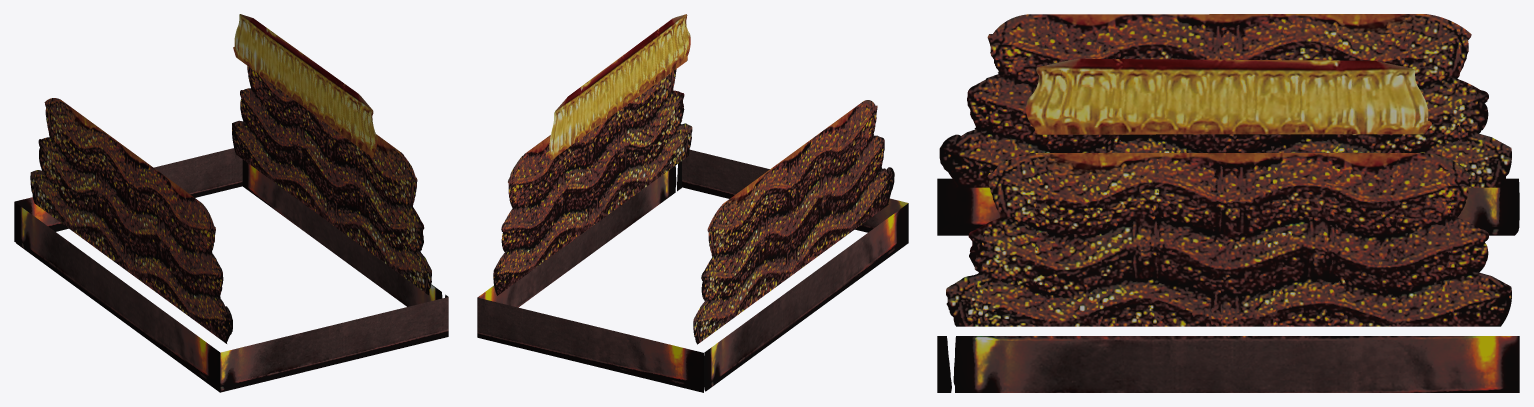
The model's file is 42_openskp_material_96.obj.
The picture shows the model from 3 angles, left to right: view 1: azimuth 30°, elevation 25°; view 2: azimuth 150°, elevation 25°; view 3: azimuth 270°, elevation 25°; orthographic projection. The views are drawn at different scales.
Parts seen in each view (by area): view 1: 42_openskp_material_96; view 2: 42_openskp_material_96; view 3: 42_openskp_material_96.
Part boxes in pixels (bbox=[...]): 42_openskp_material_96: bbox=[14, 14, 448, 392]; 42_openskp_material_96: bbox=[477, 14, 908, 392]; 42_openskp_material_96: bbox=[937, 14, 1519, 392].
Size of the model in its own units: 1.96 by 1.78 by 3.07.
Materials: 1 (1 with a texture image).
